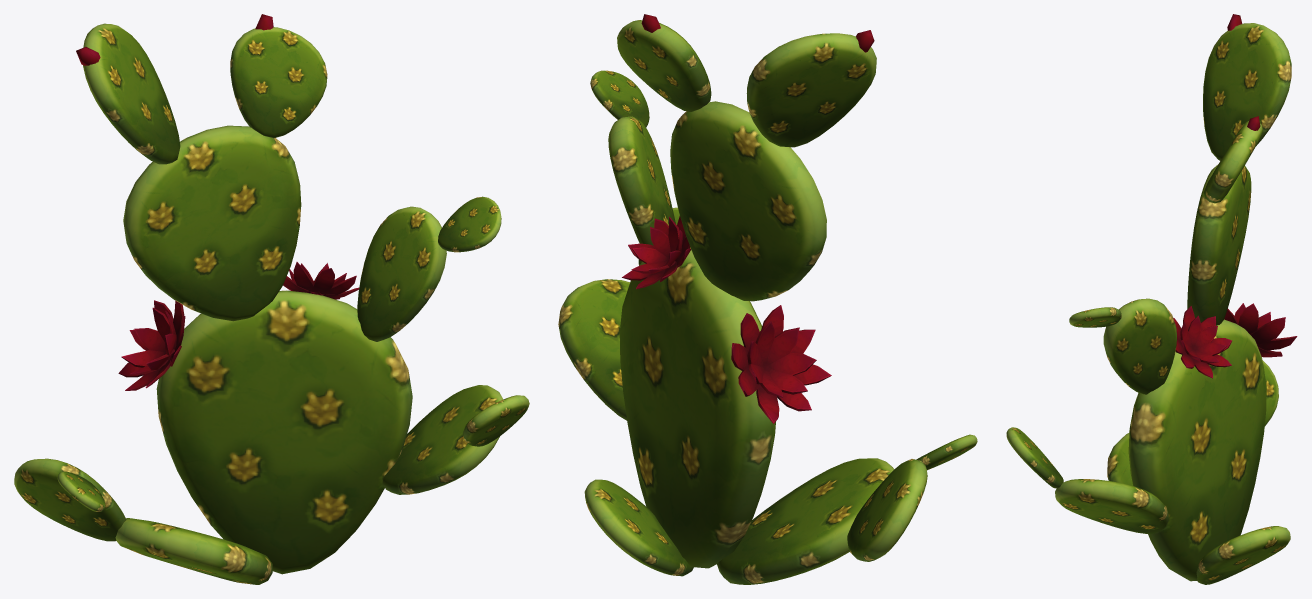
File: DE_Cactus_20.fbx
3 views of the same model, side by side, from view 1: azimuth 30°, elevation 25°; view 2: azimuth 150°, elevation 25°; view 3: azimuth 270°, elevation 25° (orthographic). The views are drawn at different scales.
Parts seen in each view (by area): view 1: DE_Cactus_20; view 2: DE_Cactus_20; view 3: DE_Cactus_20.
Boxes of the visible parts, x1=… form: DE_Cactus_20: x1=14, y1=14, x2=529, y2=584; DE_Cactus_20: x1=558, y1=14, x2=977, y2=584; DE_Cactus_20: x1=1006, y1=14, x2=1297, y2=584.
Bounding box in the file's own units: 3.47 × 4.56 × 2.46.
